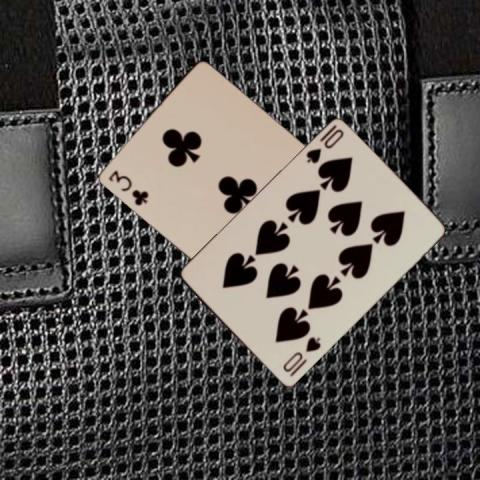10s: (279, 334, 322, 375), (303, 126, 345, 166)
3c: (105, 168, 150, 208)
